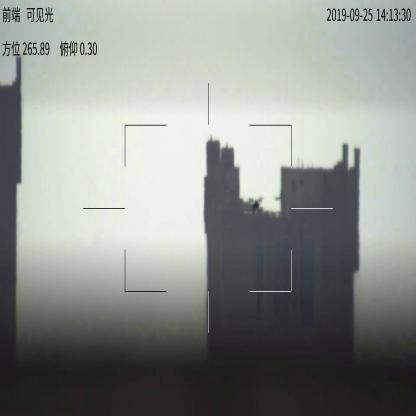uav: (248, 194, 262, 217)
